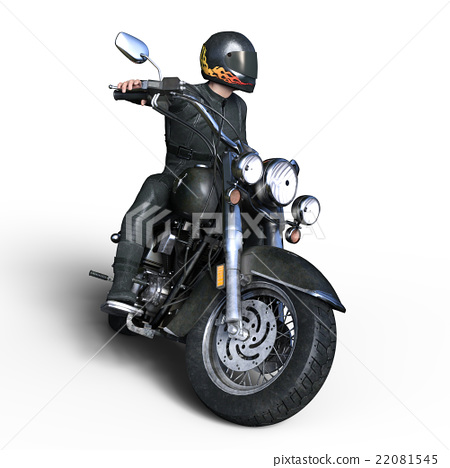helmet: (199, 25, 265, 96)
